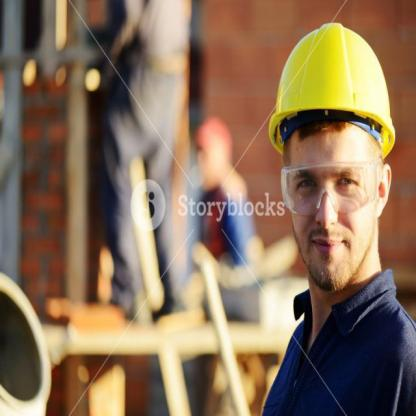glass: (277, 151, 384, 219)
person: (251, 18, 415, 414)
yellow-helm: (264, 17, 396, 160)
